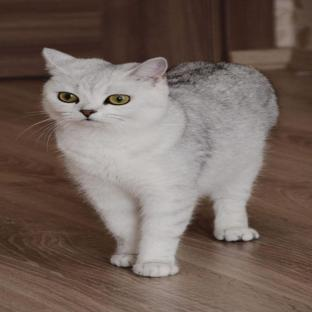Animal: (42, 48, 278, 277)
